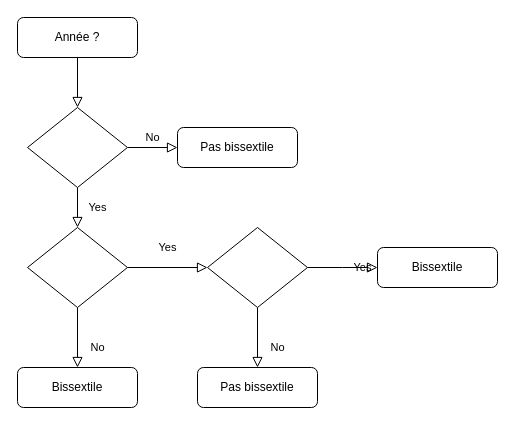
This 515x425 diagram has some shape labels left out. Here are the shapes that lost their labels. From the top down, the centre of each, then its label:
At (x=77, y=147): "Div by 4".
At (x=77, y=267): "Div by 100".
At (x=257, y=267): "Div by 400".
